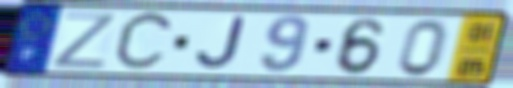0: (394, 17, 451, 79)
6: (335, 15, 391, 77)
9: (257, 13, 311, 77)
C: (109, 8, 178, 75)
J: (193, 15, 248, 73)
Z: (48, 10, 120, 70)
